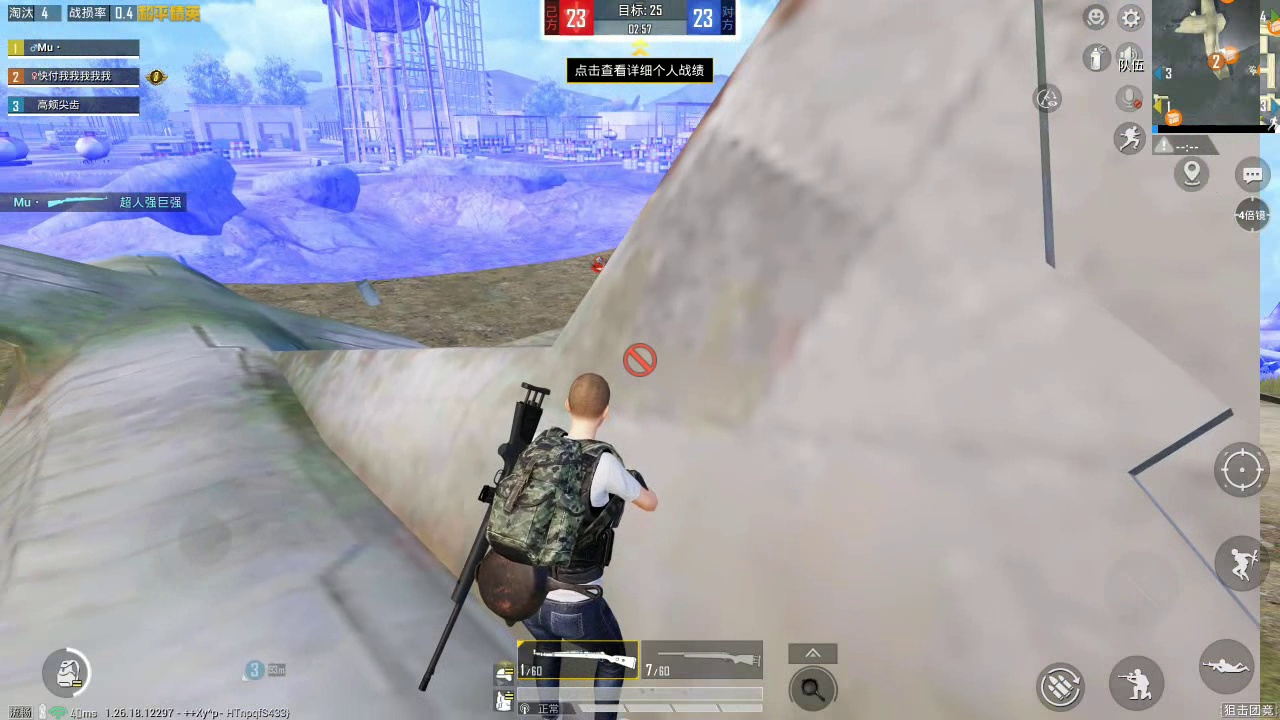enemy: (590, 254, 600, 269)
